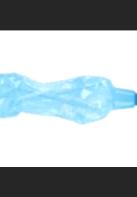bottle: (0, 73, 137, 124)
